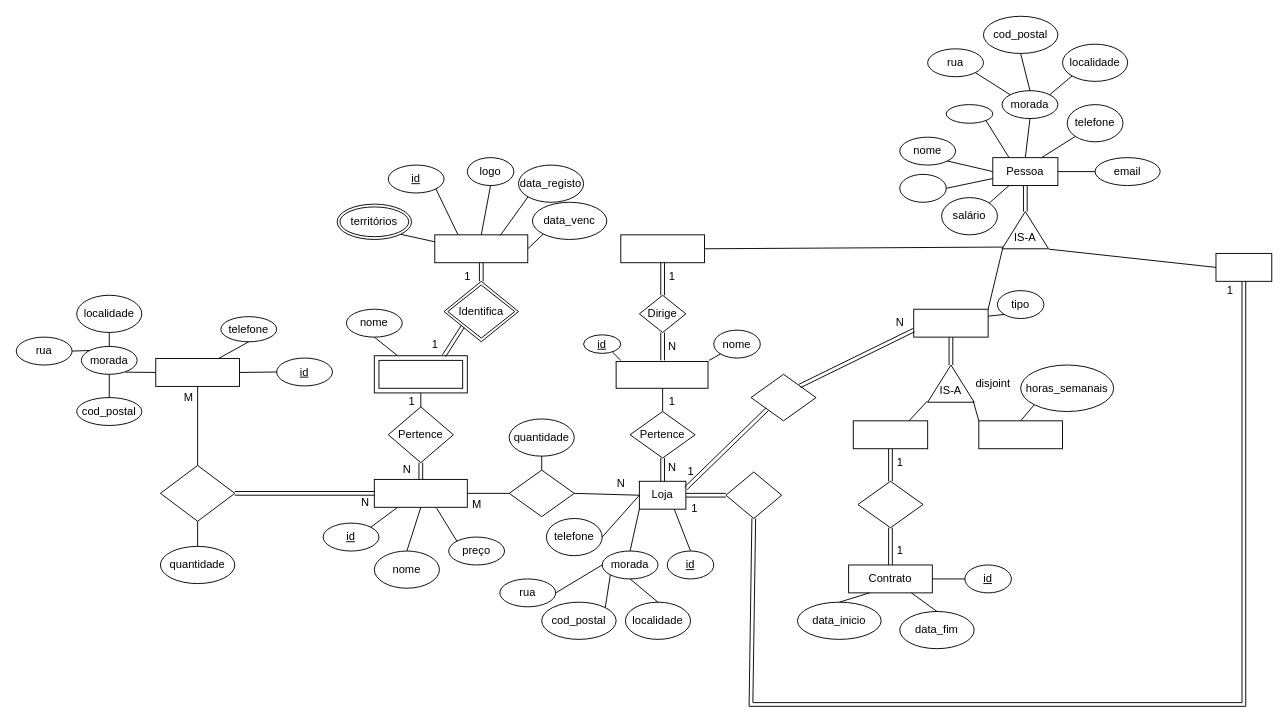
Image size: 1288x723. Some labels were removed from this diagram. The centre of each missing label's shape, as x and y in pixels:
Diretor: (x=662, y=248)
Efetivo: (x=890, y=434)
Fornece: (x=197, y=493)
Fornecedor: (x=197, y=372)
Funcionário: (x=950, y=322)
Gere: (x=753, y=494)
Gerente: (x=1243, y=266)
Marca: (x=420, y=374)
nif: (x=969, y=113)
Part-Time: (x=1020, y=434)
Patente: (x=481, y=248)
Precisa: (x=890, y=504)
Produto: (x=420, y=492)
sexo: (x=922, y=187)
SubEmpresa: (x=661, y=374)
Tem: (x=541, y=493)
Trabalha: (x=783, y=397)
